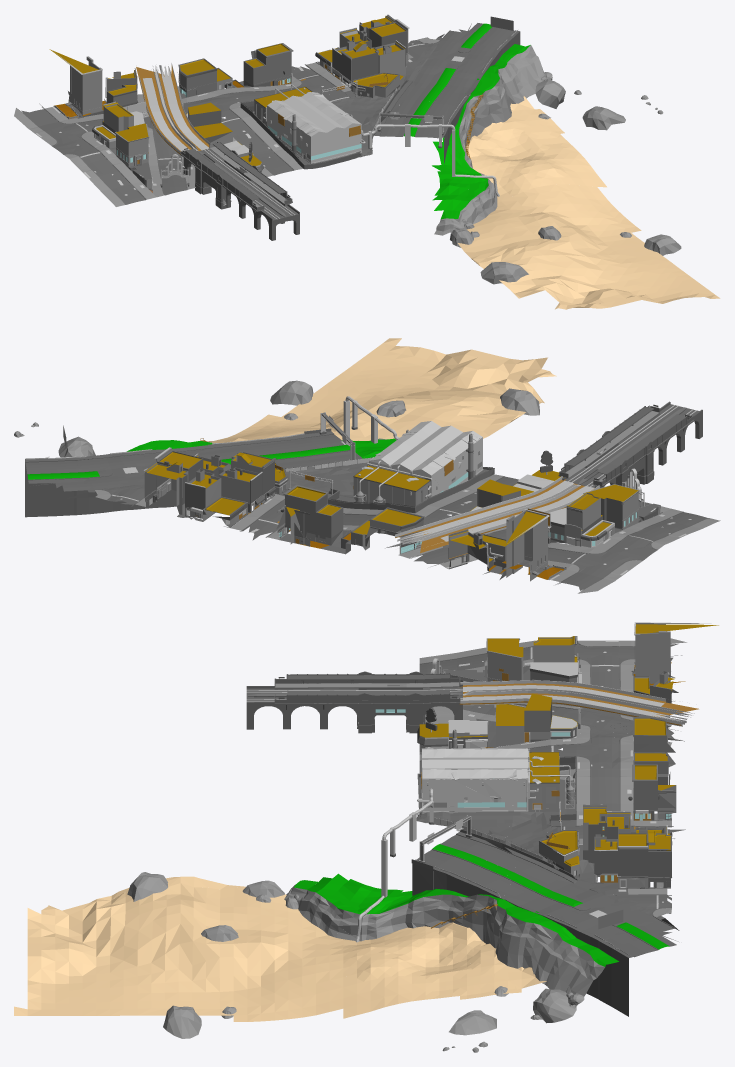
Rendered from brook_n2_4.FBX.
3 renders of one model, top to bottom at view 1: azimuth 30°, elevation 25°; view 2: azimuth 150°, elevation 25°; view 3: azimuth 270°, elevation 25°, orthographic. The views are drawn at different scales.
Parts seen in each view (by area): view 1: unnamed, null; view 2: unnamed, null; view 3: unnamed, null.
Part boxes in pixels (x1,y1,x2,y2): unnamed: (14,16,720,309); null: (291,14,499,118); unnamed: (14,338,720,593); null: (91,440,340,540); unnamed: (14,622,718,1052); null: (478,804,685,927).
Size of the model in its own units: 332 by 79.95 by 297.
